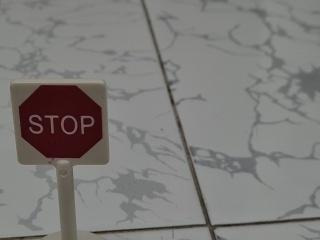stop: (6, 73, 117, 174)
